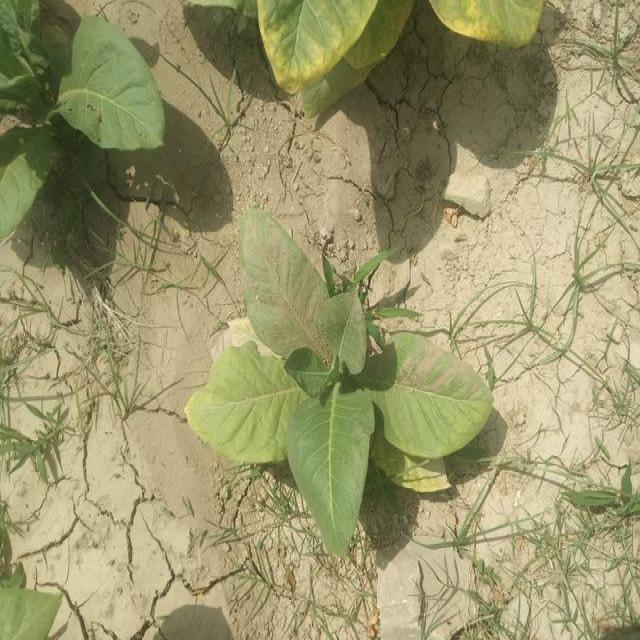crop: (195, 228, 494, 531), (0, 1, 163, 210), (257, 0, 544, 111), (0, 575, 63, 640)
